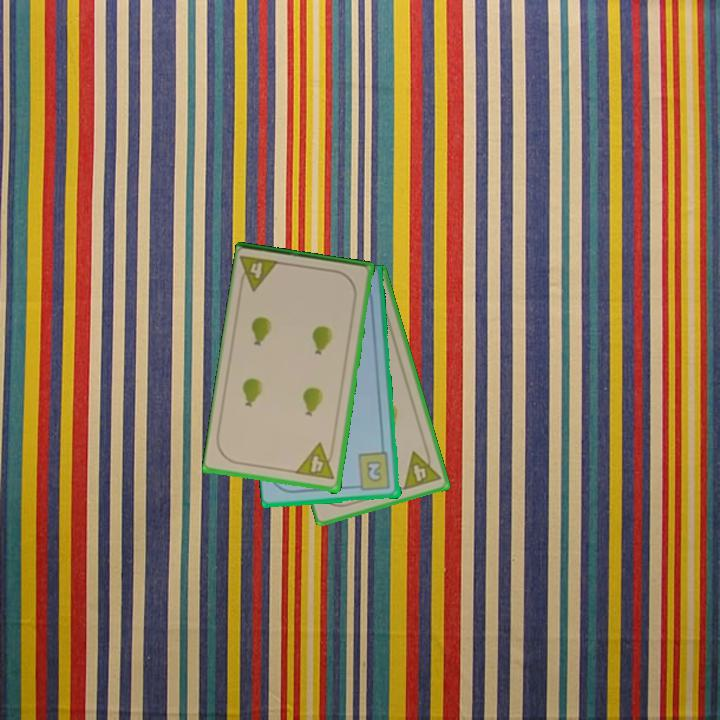2b: (351, 449, 393, 493)
4p: (400, 444, 443, 493), (236, 252, 283, 295), (293, 441, 337, 483)
